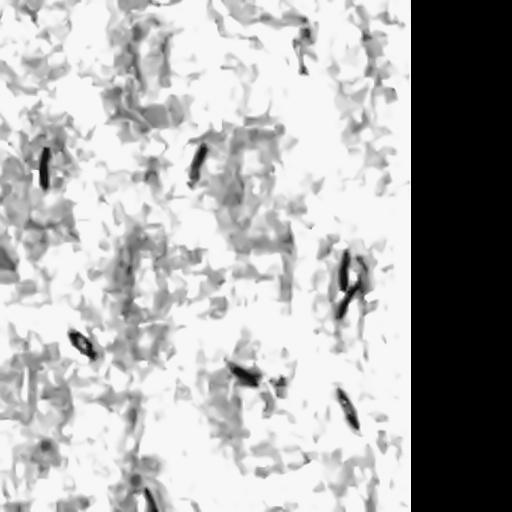egg: (335, 279, 360, 319), (336, 387, 359, 430), (189, 142, 208, 187), (68, 329, 96, 359), (338, 249, 350, 290), (38, 147, 48, 189)
